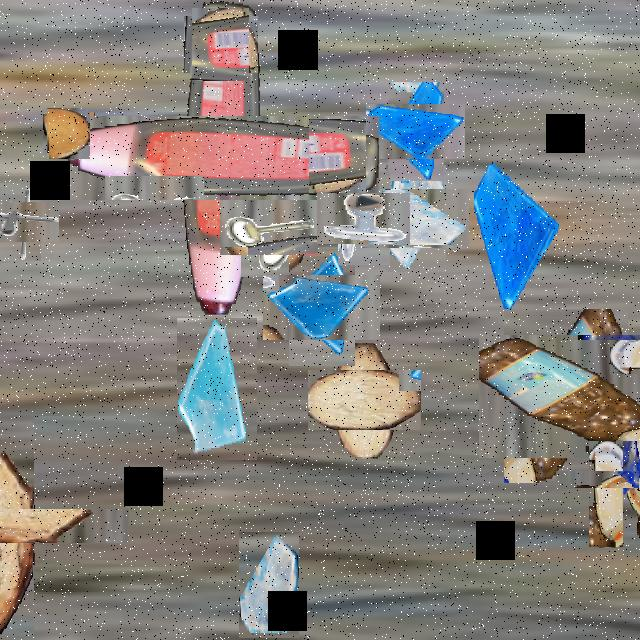glass: (474, 158, 558, 308), (177, 318, 257, 461), (276, 262, 368, 353), (374, 177, 458, 260), (239, 532, 299, 638), (377, 93, 455, 170), (589, 437, 640, 522)
metal: (230, 189, 308, 266), (328, 182, 400, 255), (0, 192, 50, 251)
plastic: (124, 59, 322, 257), (491, 322, 640, 471), (589, 441, 639, 547)
wood: (0, 461, 81, 590), (320, 356, 408, 444), (188, 12, 254, 77), (45, 110, 93, 157)
